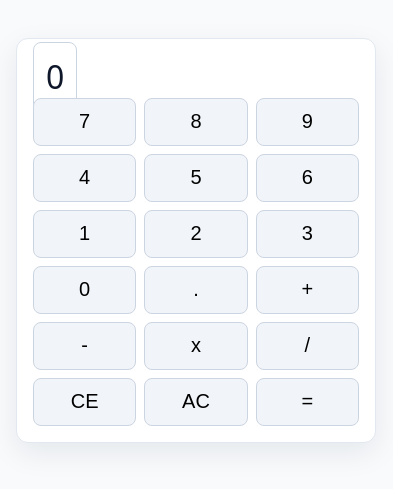
Test case: App number entry behavior › shows readable error state on division by zero
Click the button "5". click: coordinates (196, 178)
box: [144,154,248,202]
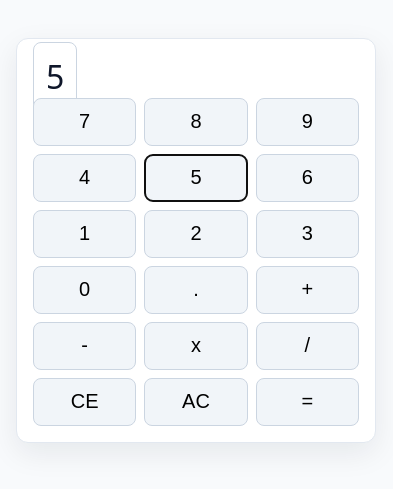
Click the button "/". click: coordinates (307, 346)
box: [256,322,359,370]
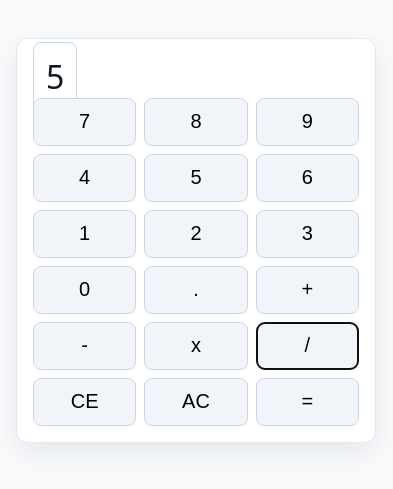
Click the button "0". click: coordinates (85, 290)
box: [33,266,136,314]
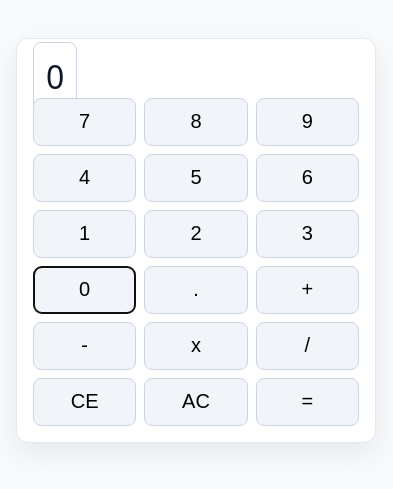
Click the button "=". click: coordinates (307, 402)
box: [256,378,359,426]
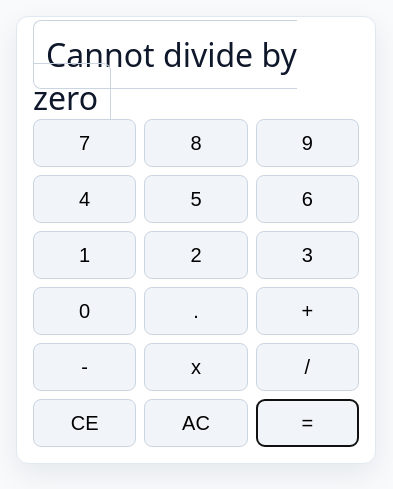
Result: the text named "Display" reads "Cannot divide by zero" at [33,33,297,119]
